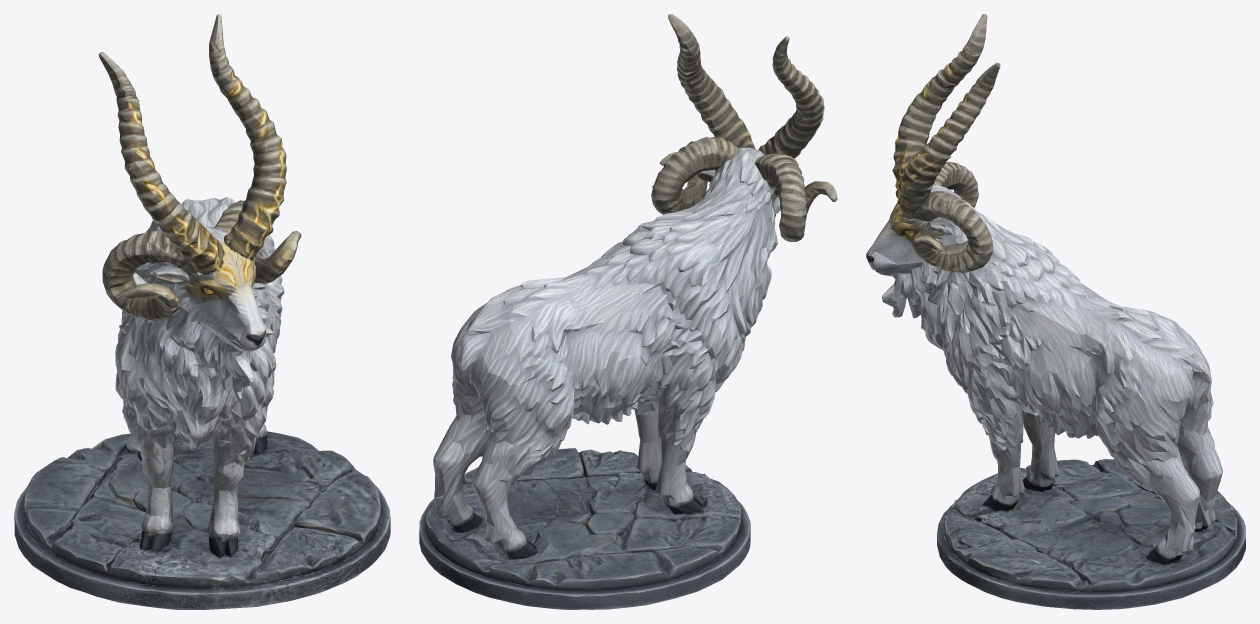
The model's file is thalduk.glb.
The picture shows the model from 3 angles, left to right: view 1: azimuth 30°, elevation 25°; view 2: azimuth 150°, elevation 25°; view 3: azimuth 270°, elevation 25°; orthographic projection. The views are drawn at different scales.
Visible parts, largest first — view 1: output_unwrapped; view 2: output_unwrapped; view 3: output_unwrapped.
Boxes of the visible parts, box(x1,y1,x2,y2) form: output_unwrapped: box(14, 14, 390, 609); output_unwrapped: box(419, 14, 837, 609); output_unwrapped: box(866, 14, 1245, 609).
Bounding box in the file's own units: 1.21 × 1.9 × 1.4.
1 material, 1 textured.
